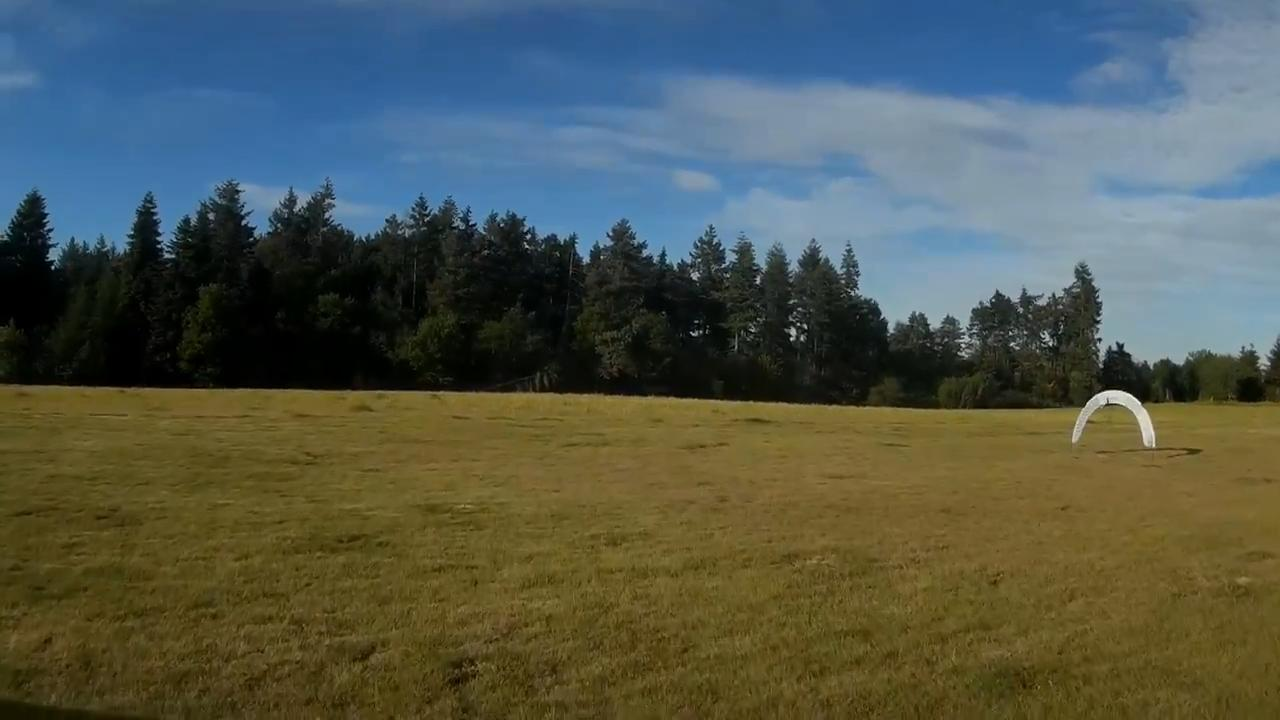gate: (1070, 389, 1158, 449)
